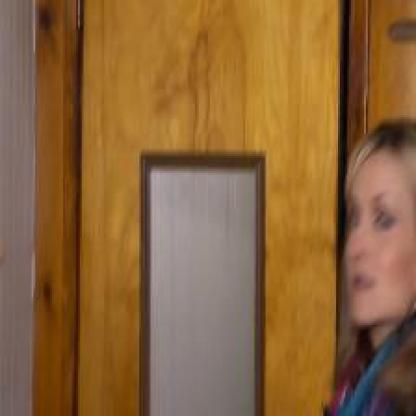other: (155, 186, 241, 406)
